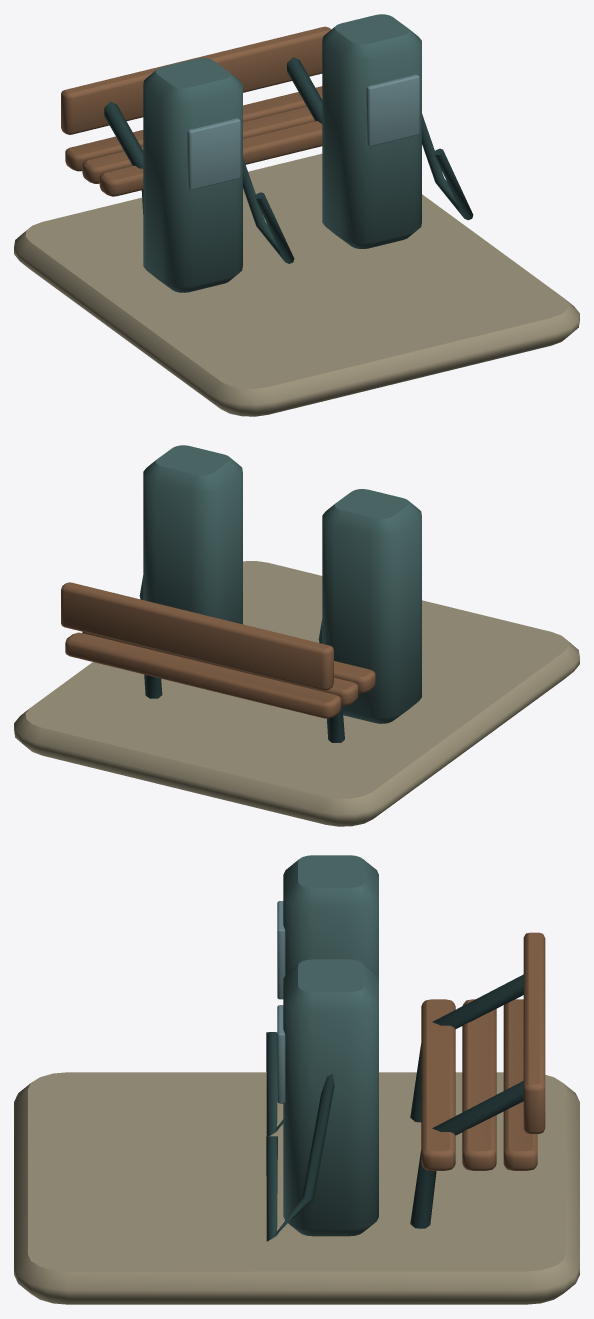
Rendered from charge_works_1.glb.
3 renders of one model, top to bottom at view 1: azimuth 30°, elevation 25°; view 2: azimuth 150°, elevation 25°; view 3: azimuth 270°, elevation 25°, orthographic. The views are drawn at different scales.
Parts seen in each view (by area): view 1: ChargeWorks1; view 2: ChargeWorks1; view 3: ChargeWorks1.
Part boxes in pixels (<box>): ChargeWorks1: <box>14,14,579,416</box>; ChargeWorks1: <box>14,445,579,826</box>; ChargeWorks1: <box>14,855,579,1304</box>.
Size of the model in its own units: 2.19 by 1.36 by 2.48.
